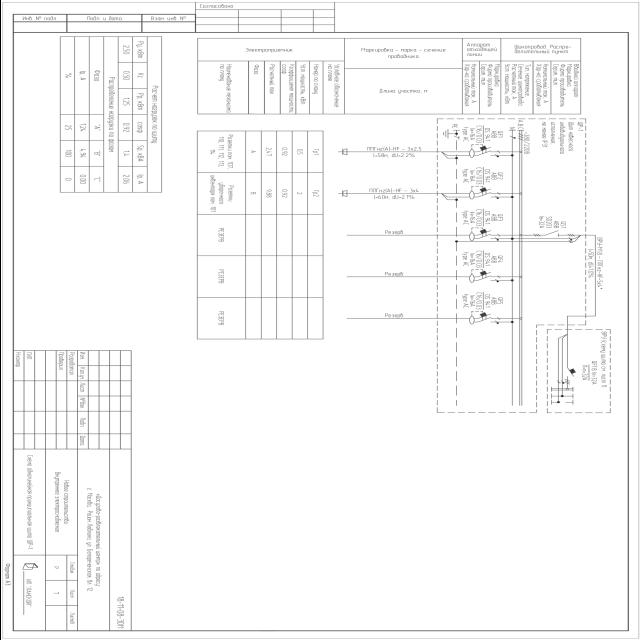-: (540, 121, 584, 154), (461, 209, 496, 227), (461, 250, 496, 268), (461, 167, 496, 185), (461, 292, 496, 310), (462, 124, 496, 142), (537, 215, 559, 230)
QFD: (466, 144, 500, 158), (468, 186, 502, 200), (467, 227, 501, 241), (467, 269, 501, 283), (468, 311, 502, 325)
QS: (532, 230, 574, 237)
